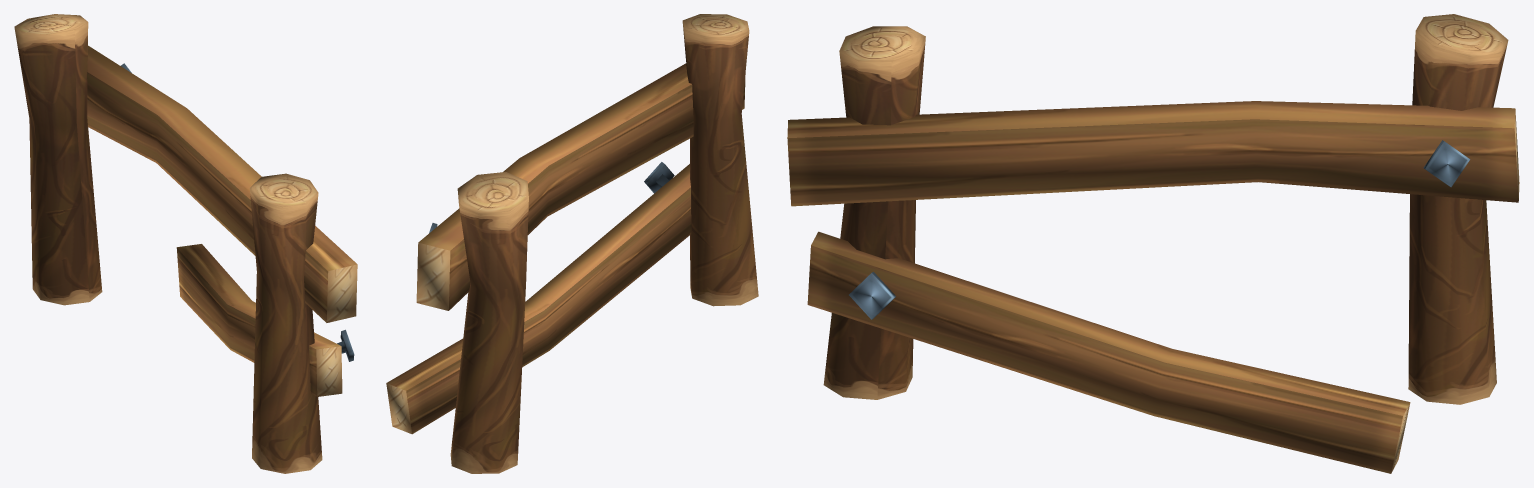
Rendered from fence_03.fbx.
3 views of the same model, side by side, from view 1: azimuth 30°, elevation 25°; view 2: azimuth 150°, elevation 25°; view 3: azimuth 270°, elevation 25° (orthographic). The views are drawn at different scales.
Parts seen in each view (by area): view 1: fence_03; view 2: fence_03; view 3: fence_03.
Part boxes in pixels (x1=…): fence_03: x1=14, y1=14, x2=357, y2=473; fence_03: x1=386, y1=14, x2=758, y2=473; fence_03: x1=787, y1=14, x2=1519, y2=473.
Size of the model in its own units: 1.56 by 2.67 by 4.82.
